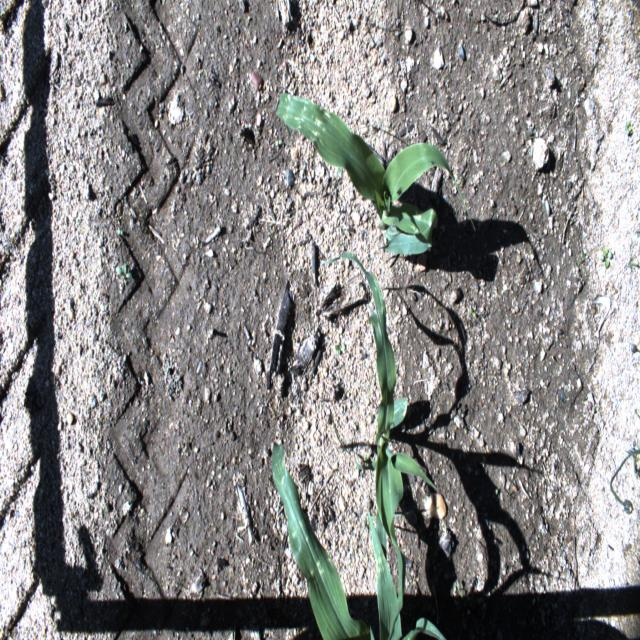crop: (320, 252, 440, 640), (272, 439, 446, 639), (276, 91, 476, 255)
weed: (601, 243, 613, 270), (334, 342, 346, 358), (456, 580, 464, 600), (625, 118, 632, 135), (468, 306, 476, 319), (363, 452, 370, 462), (629, 259, 634, 271)
